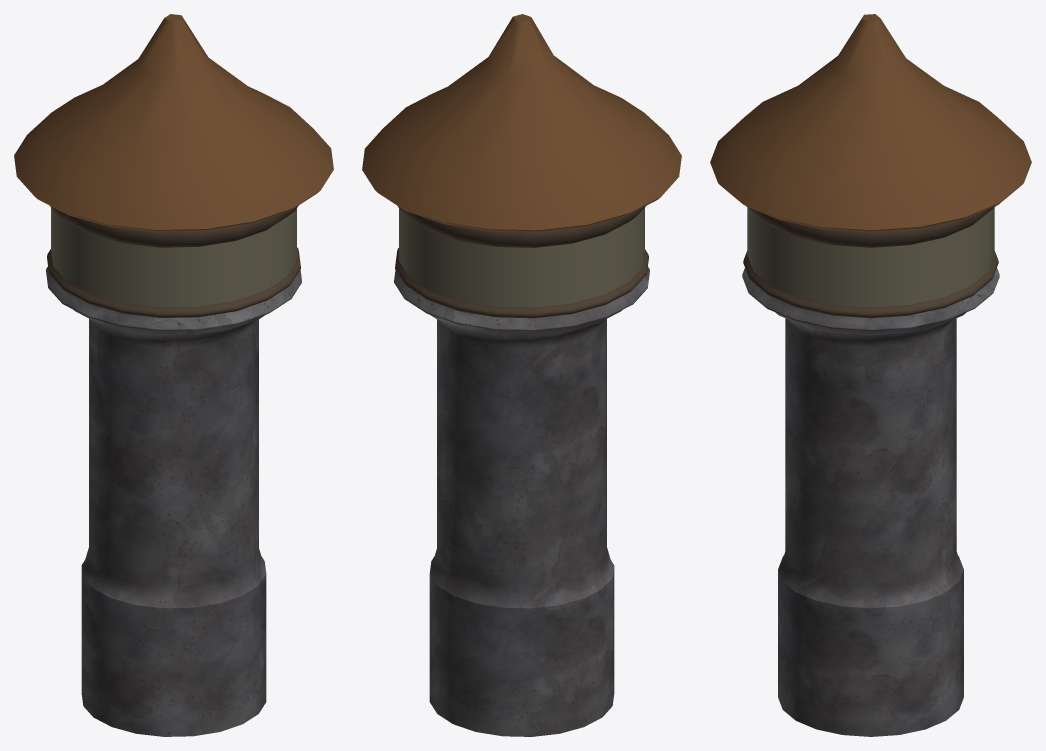
Rendered from HeistTower04.fbx.
3 views of the same model, side by side, from view 1: azimuth 30°, elevation 25°; view 2: azimuth 150°, elevation 25°; view 3: azimuth 270°, elevation 25° (orthographic).
Visible parts, largest first — view 1: HeistTower04; view 2: HeistTower04; view 3: HeistTower04.
Part boxes in pixels (x1,y1,x2,y2): HeistTower04: (14,14,333,736); HeistTower04: (362,14,681,736); HeistTower04: (710,14,1031,736).
Bounding box in the file's own units: 16.63 × 38.77 × 16.63.
Materials: 4 (1 with a texture image).
